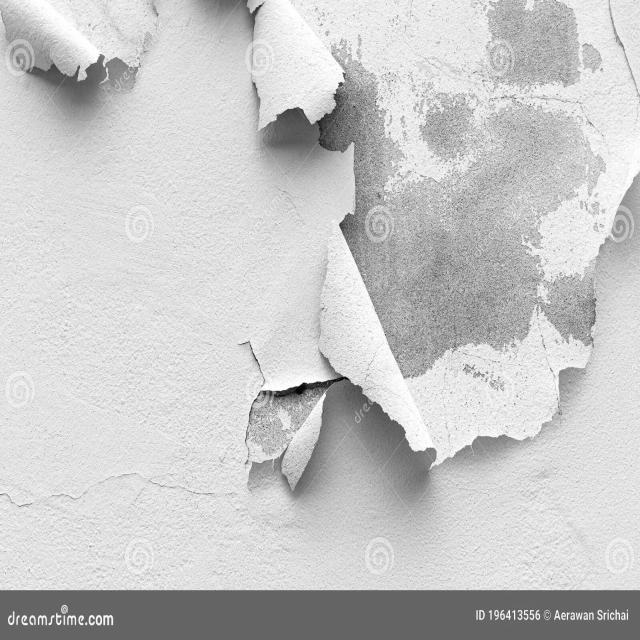peeling paint: (0, 0, 640, 520)
